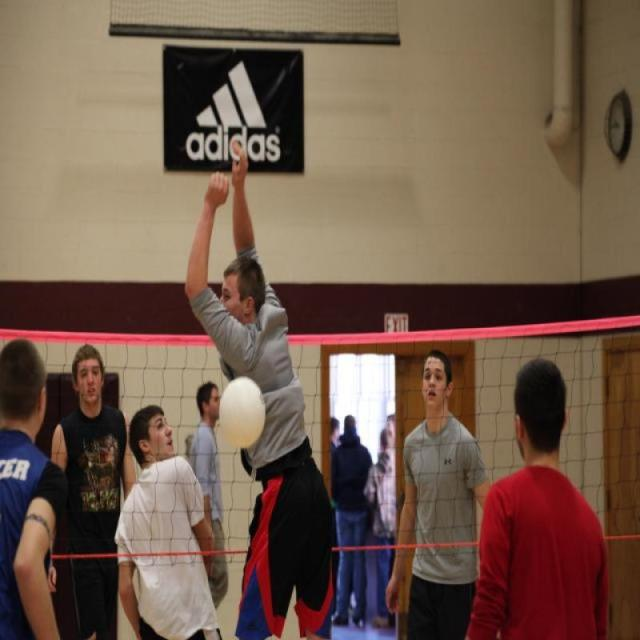volleyball: (218, 378, 265, 449)
